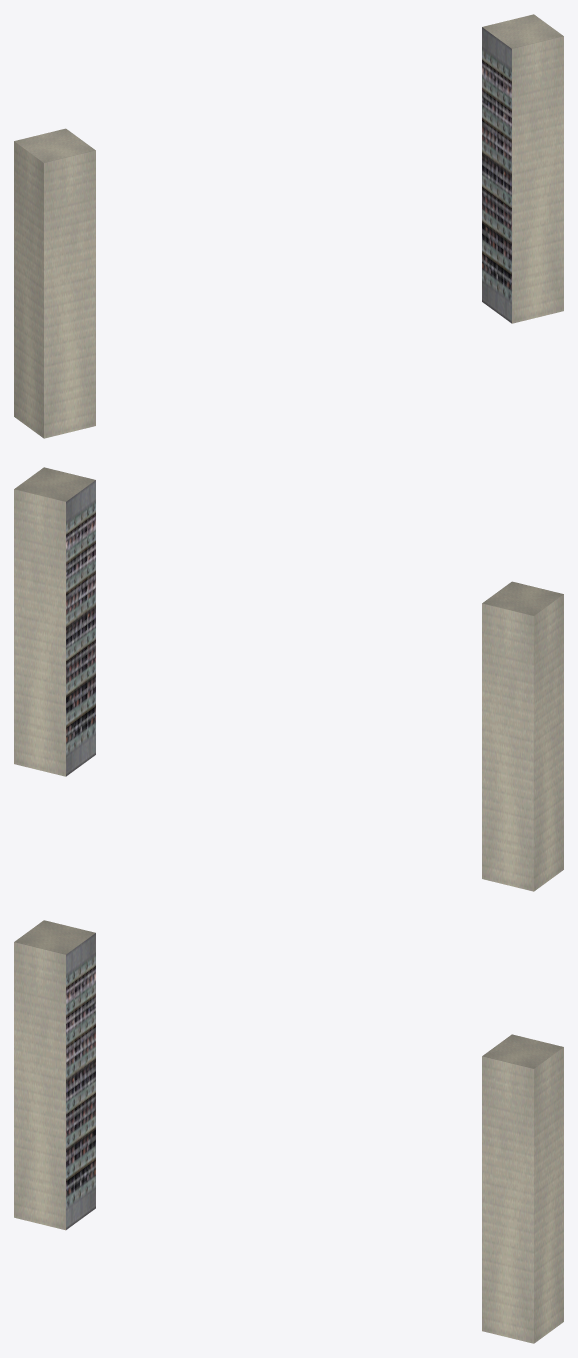
The model's file is GATE02.glb.
3 renders of one model, top to bottom at view 1: azimuth 30°, elevation 25°; view 2: azimuth 150°, elevation 25°; view 3: azimuth 330°, elevation 25°, orthographic.
Visible parts, largest first — view 1: GATE02; view 2: GATE02; view 3: GATE02.
Part boxes in pixels (x1=…): GATE02: x1=14, y1=14, x2=563, y2=438; GATE02: x1=14, y1=467, x2=563, y2=891; GATE02: x1=14, y1=920, x2=563, y2=1343.
Size of the model in its own units: 1575 by 798 by 157.
Materials: 2 (2 with a texture image).
